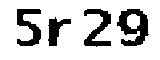2: (81, 6, 115, 51)
5: (9, 2, 44, 55)
9: (117, 5, 154, 50)
r: (47, 17, 74, 48)
